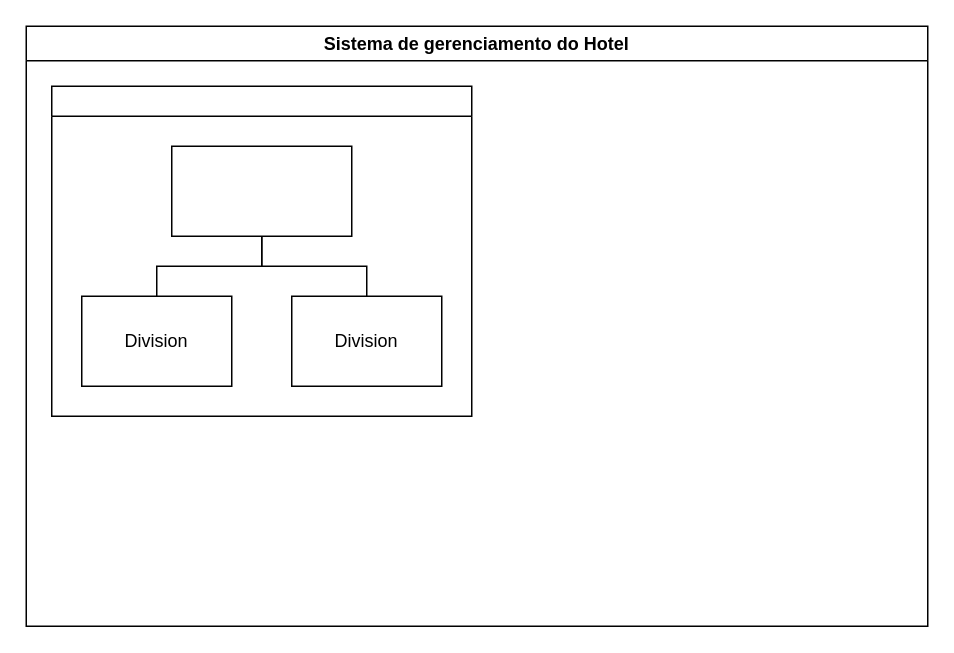
This 954x653 diagram has some shape labels left out. The box of each missing label's shape, as (x1, y1, x2, y2) in pixels:
Organization: (170, 145, 352, 236)
Usuário: (50, 85, 472, 416)
